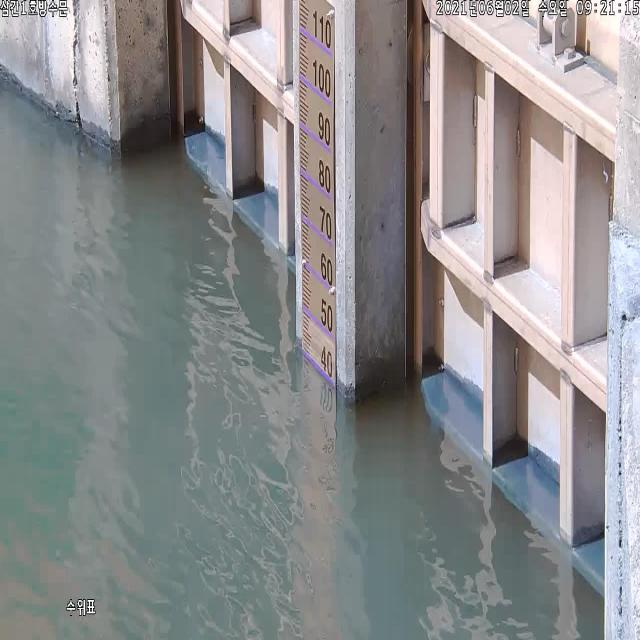ruler: (289, 0, 346, 393)
value: (311, 4, 335, 53), (311, 54, 334, 101), (316, 201, 335, 244), (315, 153, 334, 195), (316, 106, 334, 148), (318, 247, 336, 288), (318, 294, 335, 337), (319, 340, 335, 382)
